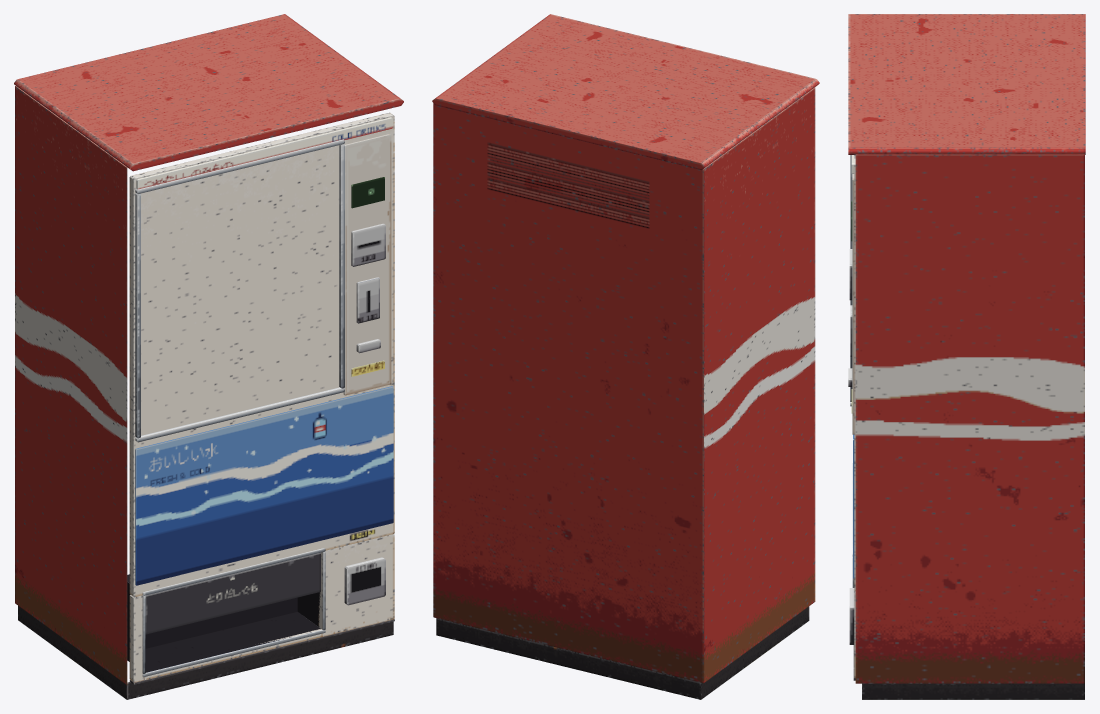
The model's file is vending.glb.
The picture shows the model from 3 angles, left to right: view 1: azimuth 30°, elevation 25°; view 2: azimuth 150°, elevation 25°; view 3: azimuth 270°, elevation 25°; orthographic projection. The views are drawn at different scales.
Parts seen in each view (by area): view 1: body, flap; view 2: body; view 3: body.
Part boxes in pixels (<box>): body: <box>14,14,403,699</box>; flap: <box>145,552,320,634</box>; body: <box>432,14,819,699</box>; body: <box>848,14,1085,699</box>.
Size of the model in its own units: 0.986 by 1.86 by 0.7239.
5 materials, 5 textured.
